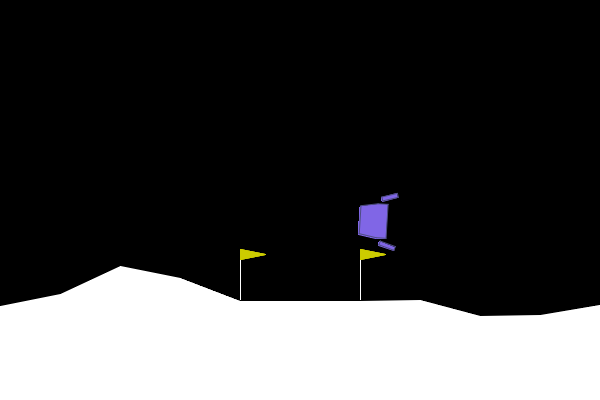lander: (356, 190, 399, 252)
